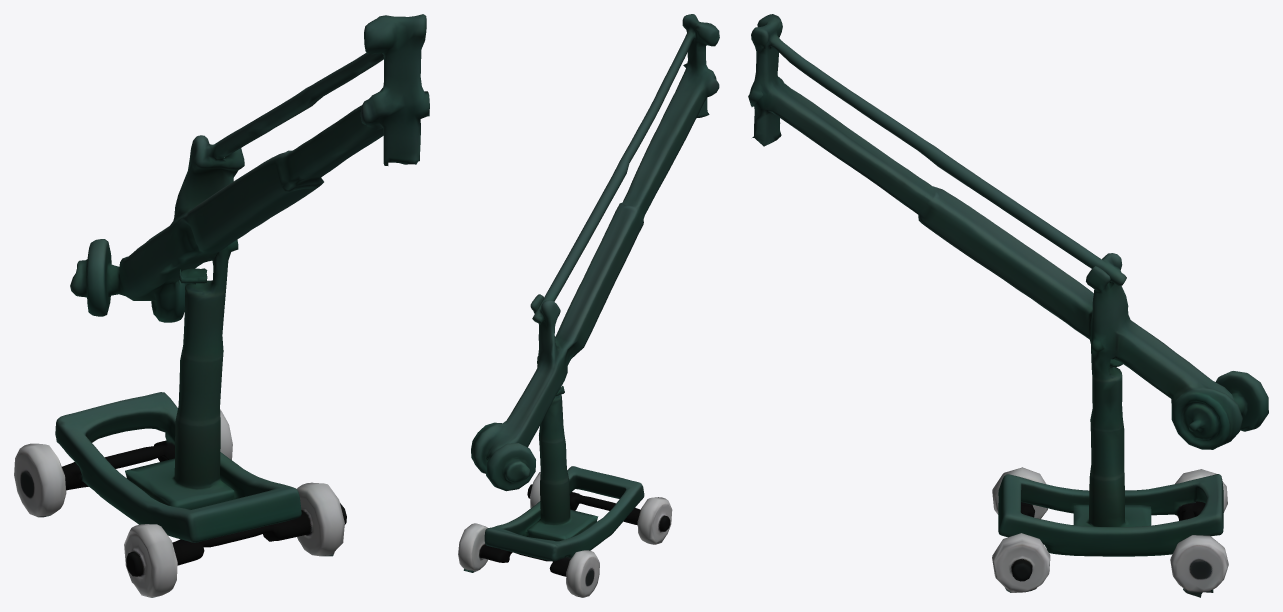
Rendered from 01_jib.glb.
3 renders of one model, left to right at view 1: azimuth 30°, elevation 25°; view 2: azimuth 150°, elevation 25°; view 3: azimuth 270°, elevation 25°, orthographic. The views are drawn at different scales.
Parts seen in each view (by area): view 1: 01_jib; view 2: 01_jib; view 3: 01_jib.
Boxes of the visible parts, box(x1,y1,x2,y2) form: 01_jib: box(14, 14, 429, 597); 01_jib: box(458, 14, 719, 597); 01_jib: box(748, 14, 1268, 597).
Bounding box in the file's own units: 1.04 × 3.2 × 2.79.
Materials: 1 (1 with a texture image).
